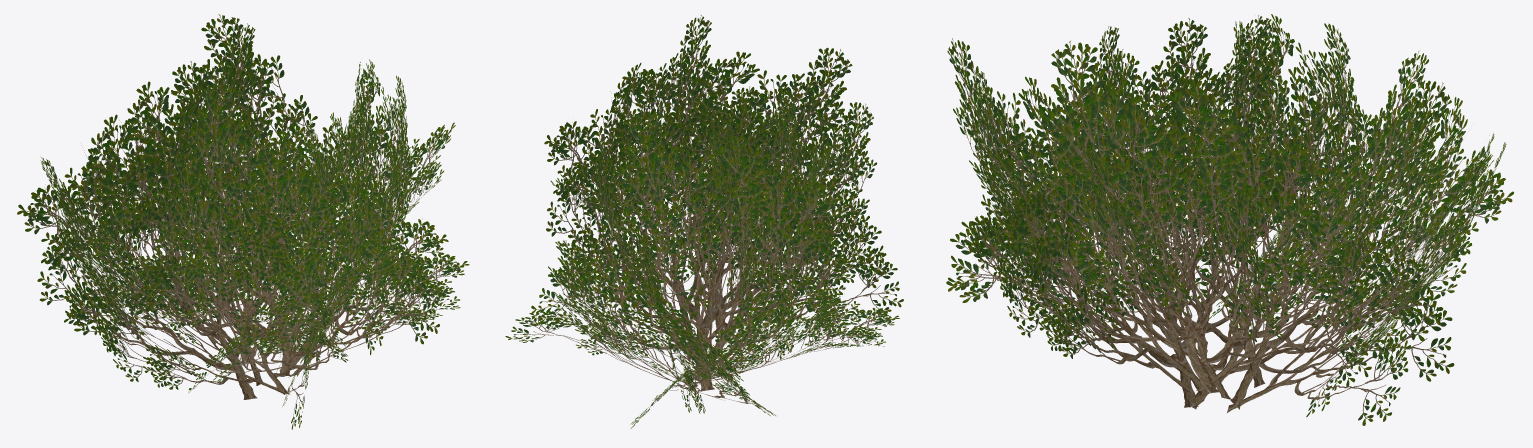
The model's file is SM_Bush_02a.fbx.
The picture shows the model from 3 angles, left to right: view 1: azimuth 30°, elevation 25°; view 2: azimuth 150°, elevation 25°; view 3: azimuth 270°, elevation 25°; orthographic projection. The views are drawn at different scales.
Visible parts, largest first — view 1: SM_Bush_02a_LOD0; view 2: SM_Bush_02a_LOD0; view 3: SM_Bush_02a_LOD0.
Part boxes in pixels (<box>): SM_Bush_02a_LOD0: <box>17,14,469,429</box>; SM_Bush_02a_LOD0: <box>505,15,903,428</box>; SM_Bush_02a_LOD0: <box>946,14,1513,425</box>.
Size of the model in its own units: 455 by 501 by 408.
